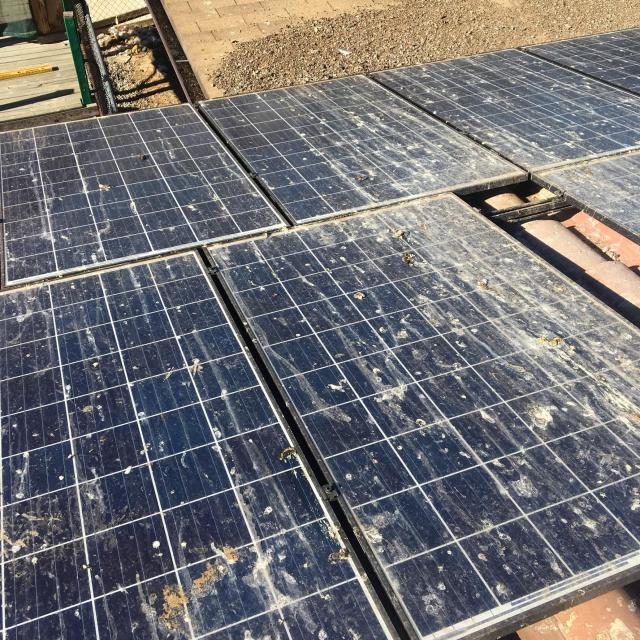dust-solar-panel: (0, 29, 640, 640)
